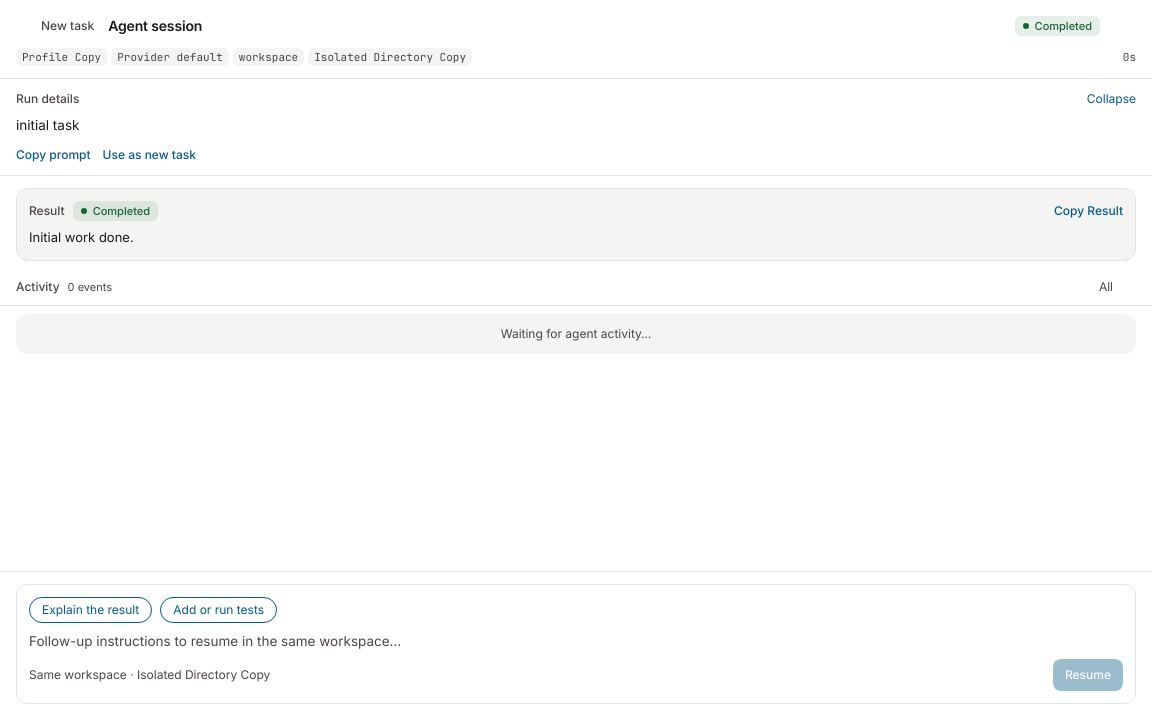
AgentComposer profile execution defaults, Copy Result, and Resume › determines resume capability from active session profile and handles resume failure safely
The width and height of the screenshot is (1152, 720).
Expected: the element with test id "agent-resume-section" is shown, [0, 571, 1151, 719]
Type "Follow up that fails" into the text box named "Follow-up prompt" at coordinates (576, 641), box [29, 631, 1123, 651]
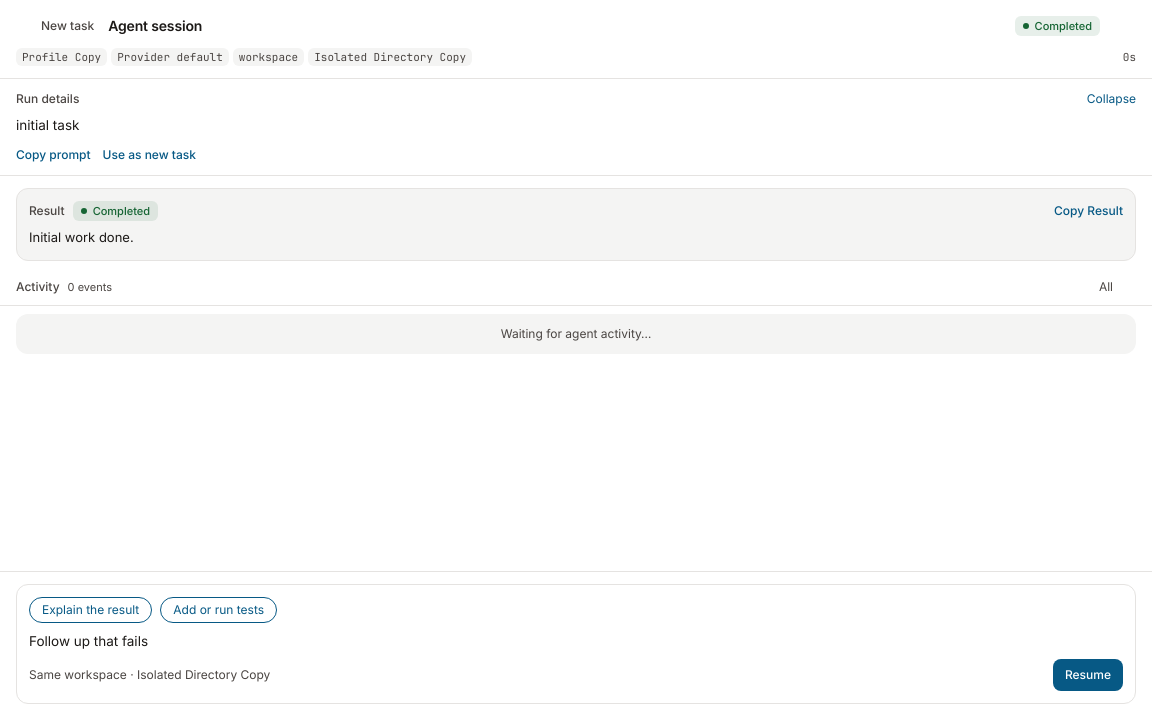
Click the button with test id "agent-resume-button" at coordinates (1088, 675), box [1053, 659, 1123, 691]
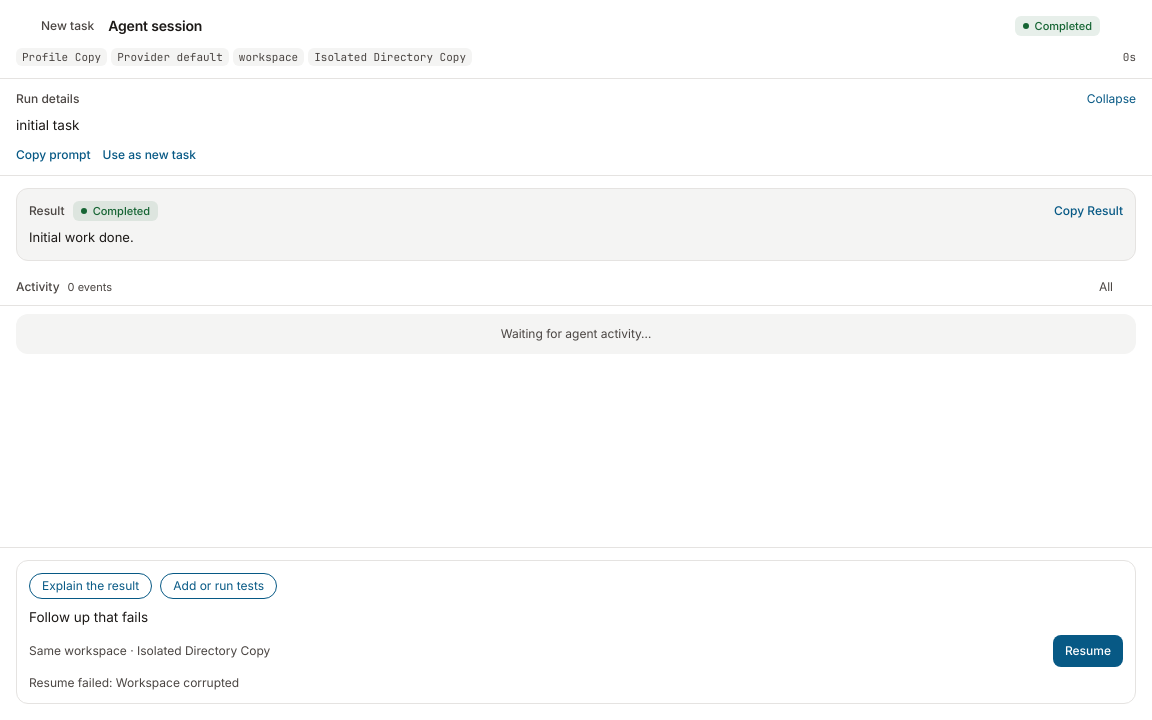
Expected: the text with test id "agent-resume-status" reads "Resume failed: Workspace corrupted", [29, 675, 239, 690]
